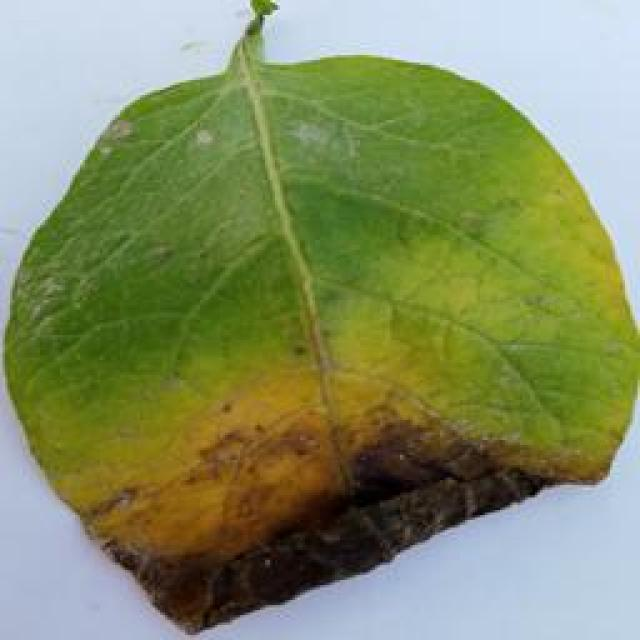Potato_Late_Blight: (6, 8, 628, 634)
